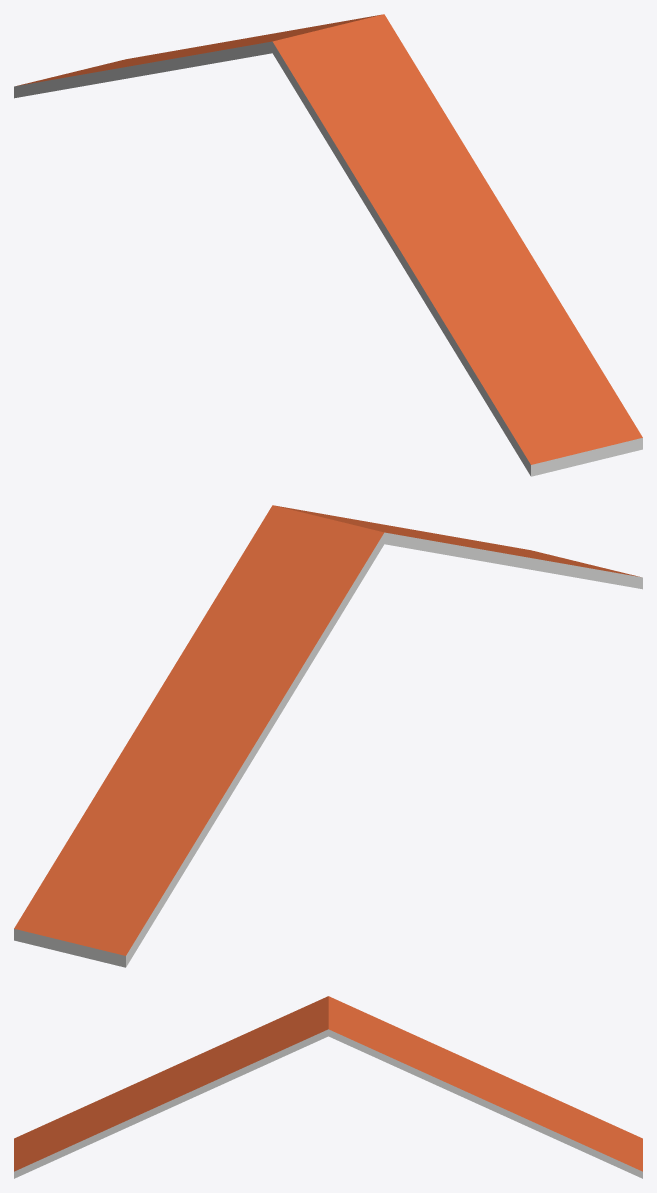
The model's file is telhado_duas_aguas_v8_i50_1m.glb.
The picture shows the model from 3 angles, top to bottom: view 1: azimuth 30°, elevation 25°; view 2: azimuth 150°, elevation 25°; view 3: azimuth 270°, elevation 25°; orthographic projection. The views are drawn at different scales.
Parts seen in each view (by area): view 1: telhado_duas_aguas_v8_i50_1m; view 2: telhado_duas_aguas_v8_i50_1m; view 3: telhado_duas_aguas_v8_i50_1m.
Part boxes in pixels (bbox=[...]): telhado_duas_aguas_v8_i50_1m: bbox=[14, 14, 642, 476]; telhado_duas_aguas_v8_i50_1m: bbox=[14, 505, 642, 967]; telhado_duas_aguas_v8_i50_1m: bbox=[14, 996, 642, 1178].
Size of the model in its own units: 1 by 2.1 by 8.
